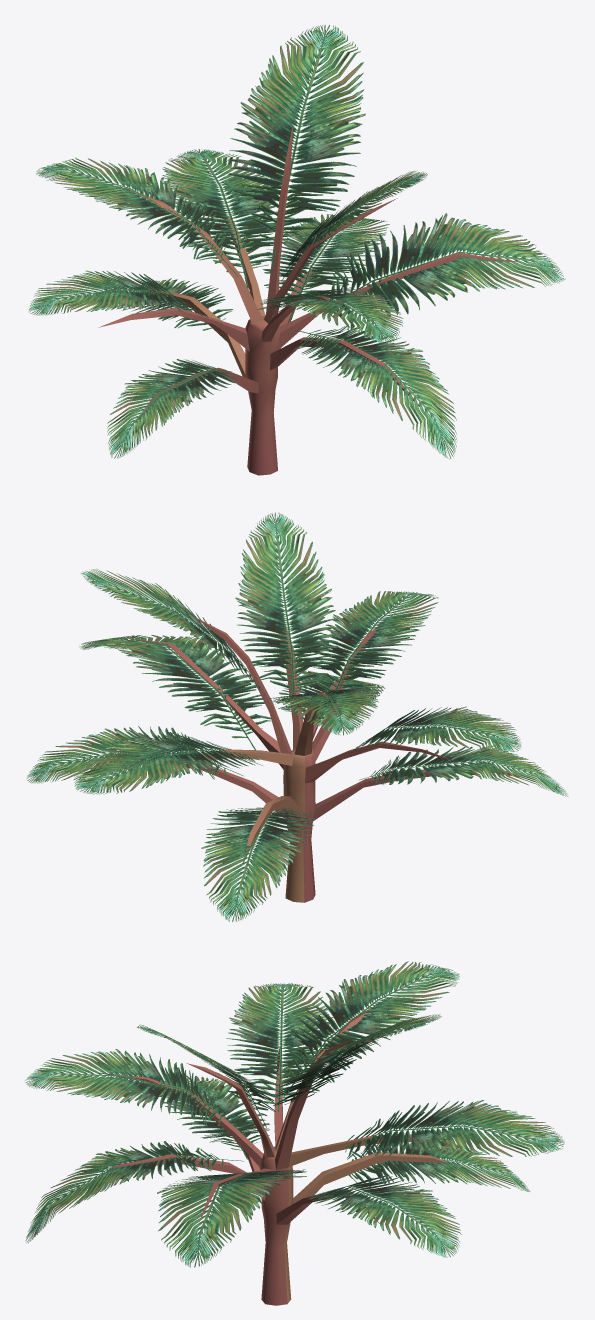
The model's file is Plant_Palm.fbx.
3 renders of one model, top to bottom at view 1: azimuth 30°, elevation 25°; view 2: azimuth 150°, elevation 25°; view 3: azimuth 270°, elevation 25°, orthographic. The views are drawn at different scales.
Visible parts, largest first — view 1: polySurface782; view 2: polySurface782; view 3: polySurface782.
Boxes of the visible parts, x1,y1,x2,y2 form: polySurface782: (29, 24, 565, 475); polySurface782: (26, 512, 567, 921); polySurface782: (25, 961, 564, 1305).
Size of the model in its own units: 489 by 322 by 471.
